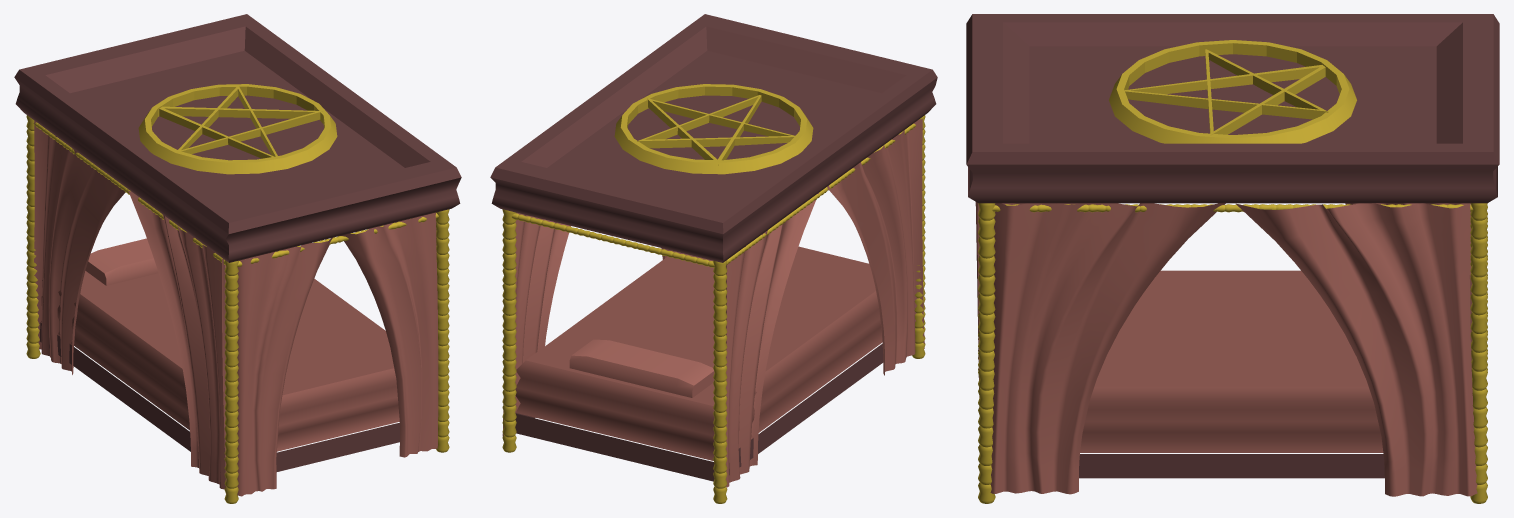
File: CAMA.fbx
The picture shows the model from 3 angles, left to right: view 1: azimuth 30°, elevation 25°; view 2: azimuth 150°, elevation 25°; view 3: azimuth 270°, elevation 25°; orthographic projection. The views are drawn at different scales.
Visible parts, largest first — view 1: Cama1; view 2: Cama1; view 3: Cama1.
Part boxes in pixels (bbox=[...]): Cama1: bbox=[14, 14, 461, 503]; Cama1: bbox=[490, 14, 937, 503]; Cama1: bbox=[966, 14, 1499, 503].
Size of the model in its own units: 5.92 by 6.81 by 9.29.
